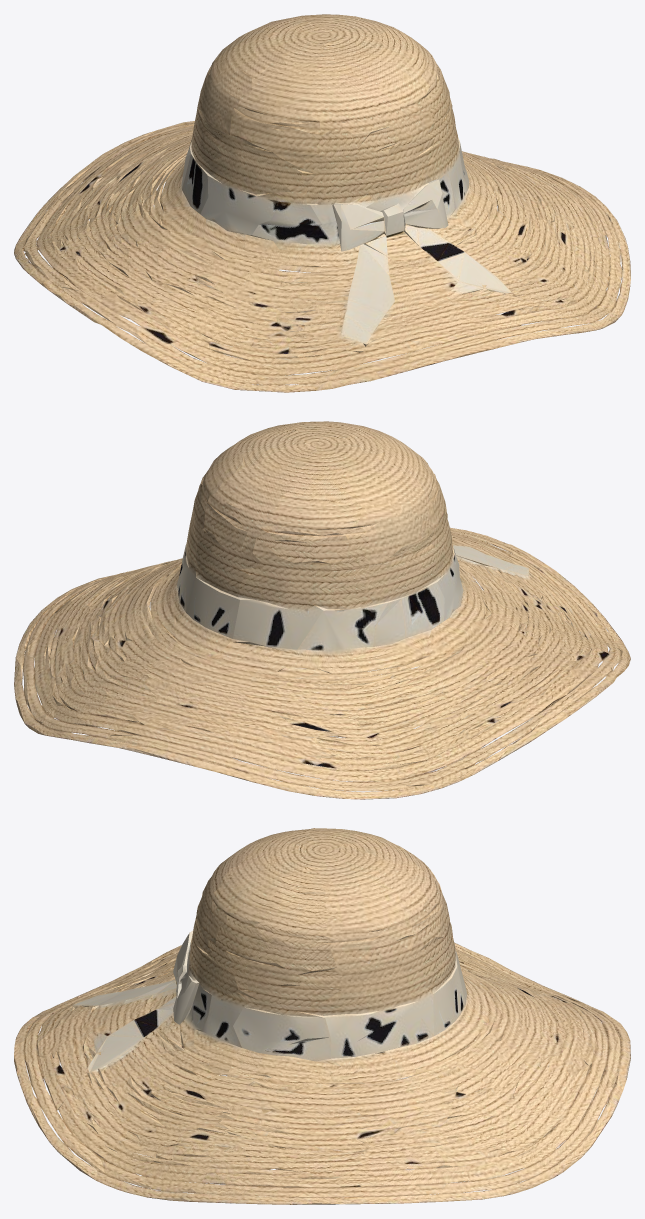
File: mk_straw.glb
3 renders of one model, top to bottom at view 1: azimuth 30°, elevation 25°; view 2: azimuth 150°, elevation 25°; view 3: azimuth 270°, elevation 25°, orthographic.
Bounding box in the file's own units: 1.89 × 0.8245 × 1.89.
1 material, 1 textured.
